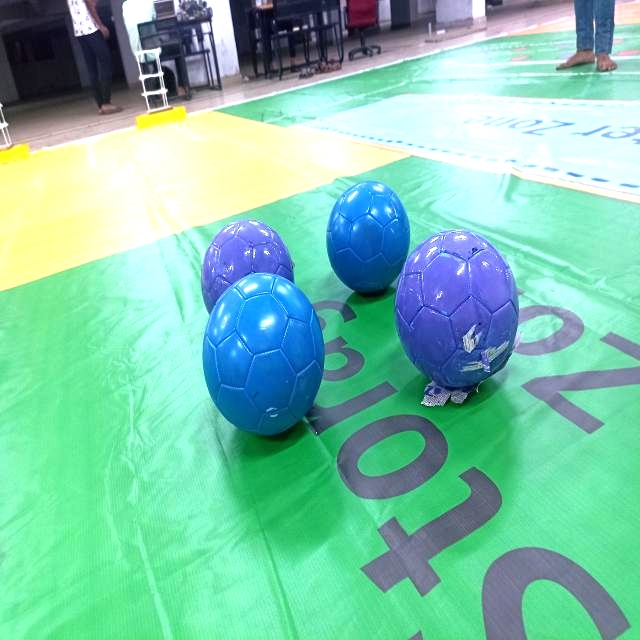blue_ball: (196, 266, 330, 438), (324, 177, 414, 297)
purple_ball: (390, 222, 528, 398), (197, 216, 298, 303)
